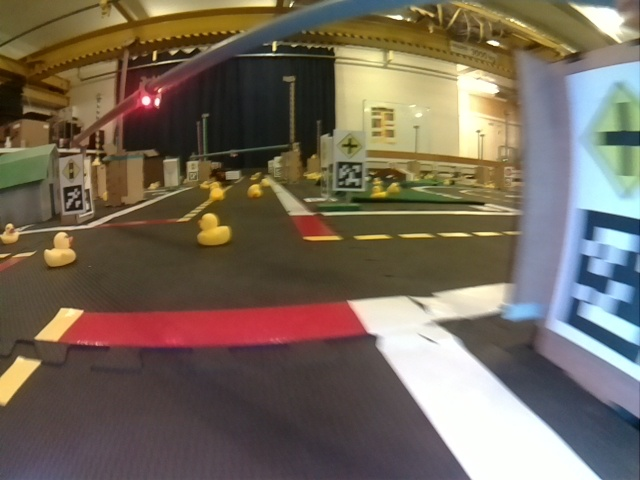Duckie: (196, 212, 229, 245), (44, 232, 75, 266), (1, 224, 19, 244), (249, 184, 261, 197), (210, 188, 222, 200), (372, 187, 385, 198)
Intersection sign: (572, 74, 638, 199), (335, 132, 364, 159)
QR code: (552, 208, 639, 369), (334, 162, 363, 189), (64, 187, 83, 212)
Signal sign: (62, 158, 82, 181)
Traffic light: (140, 82, 162, 109)
